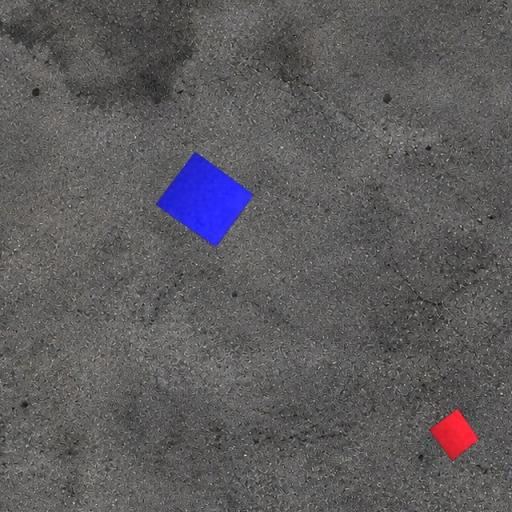BLUE_SQUARE: (155, 151, 255, 248)
RED_SQUARE: (428, 408, 480, 462)
